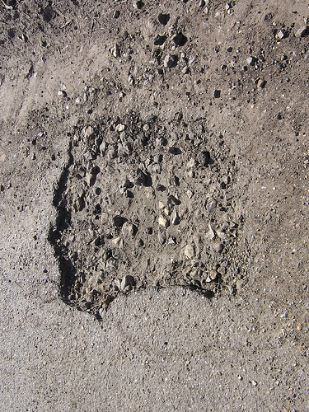pothole: (43, 106, 250, 318)
